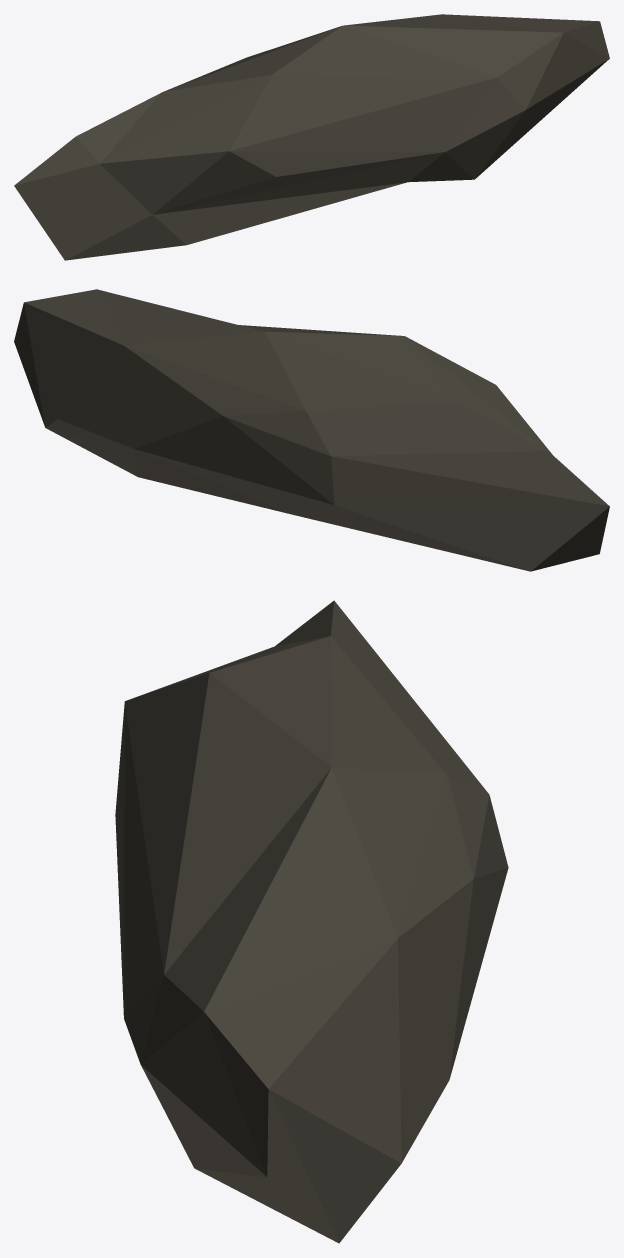
File: Wall.FBX
3 renders of one model, top to bottom at view 1: azimuth 30°, elevation 25°; view 2: azimuth 150°, elevation 25°; view 3: azimuth 270°, elevation 25°, orthographic. The views are drawn at different scales.
Visible parts, largest first — view 1: Wall; view 2: Wall; view 3: Wall.
Part boxes in pixels (x1,y1,x2,y2): Wall: (14, 14, 609, 260); Wall: (14, 289, 609, 571); Wall: (115, 600, 508, 1243).
Size of the model in its own units: 111 by 30.21 by 32.75.
